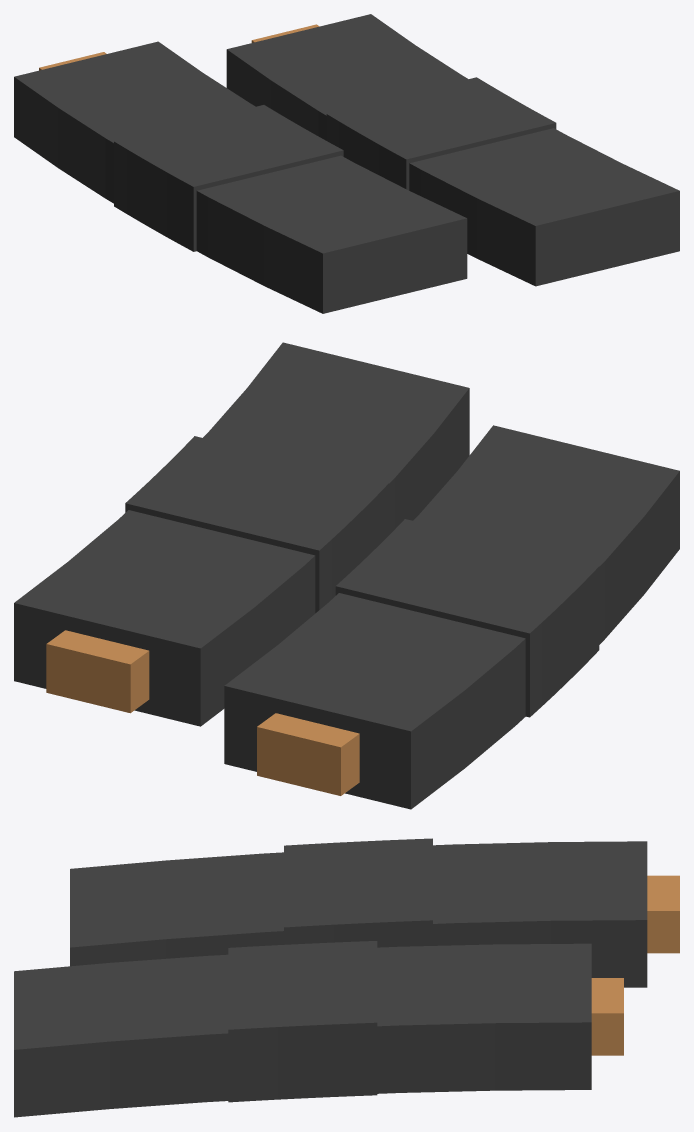
The model's file is ce_ammo_rifle_fmj_b.obj.
3 renders of one model, top to bottom at view 1: azimuth 30°, elevation 25°; view 2: azimuth 150°, elevation 25°; view 3: azimuth 270°, elevation 25°, orthographic. The views are drawn at different scales.
Visible parts, largest first — view 1: ce_ammo_rifle_fmj_b_0, ce_ammo_rifle_fmj_b_3, ce_ammo_rifle_fmj_b_1, ce_ammo_rifle_fmj_b_4; view 2: ce_ammo_rifle_fmj_b_0, ce_ammo_rifle_fmj_b_3, ce_ammo_rifle_fmj_b_1, ce_ammo_rifle_fmj_b_4, ce_ammo_rifle_fmj_b_5, ce_ammo_rifle_fmj_b_2; view 3: ce_ammo_rifle_fmj_b_3, ce_ammo_rifle_fmj_b_0, ce_ammo_rifle_fmj_b_4, ce_ammo_rifle_fmj_b_1, ce_ammo_rifle_fmj_b_2, ce_ammo_rifle_fmj_b_5.
Part boxes in pixels (x1,y1,x2,y2): ce_ammo_rifle_fmj_b_0: (14, 41, 467, 313); ce_ammo_rifle_fmj_b_3: (226, 14, 679, 286); ce_ammo_rifle_fmj_b_1: (114, 105, 343, 251); ce_ammo_rifle_fmj_b_4: (326, 77, 556, 190); ce_ammo_rifle_fmj_b_0: (224, 425, 679, 809); ce_ammo_rifle_fmj_b_3: (14, 342, 469, 726); ce_ammo_rifle_fmj_b_1: (335, 519, 599, 717); ce_ammo_rifle_fmj_b_4: (125, 436, 388, 613); ce_ammo_rifle_fmj_b_5: (46, 630, 149, 713); ce_ammo_rifle_fmj_b_2: (257, 713, 359, 795); ce_ammo_rifle_fmj_b_3: (14, 943, 591, 1117); ce_ammo_rifle_fmj_b_0: (70, 841, 647, 987); ce_ammo_rifle_fmj_b_4: (228, 941, 377, 1102); ce_ammo_rifle_fmj_b_1: (284, 838, 432, 947); ce_ammo_rifle_fmj_b_2: (647, 875, 679, 953); ce_ammo_rifle_fmj_b_5: (591, 978, 623, 1055).
Size of the model in its own units: 0.53 by 0.086 by 0.715.
